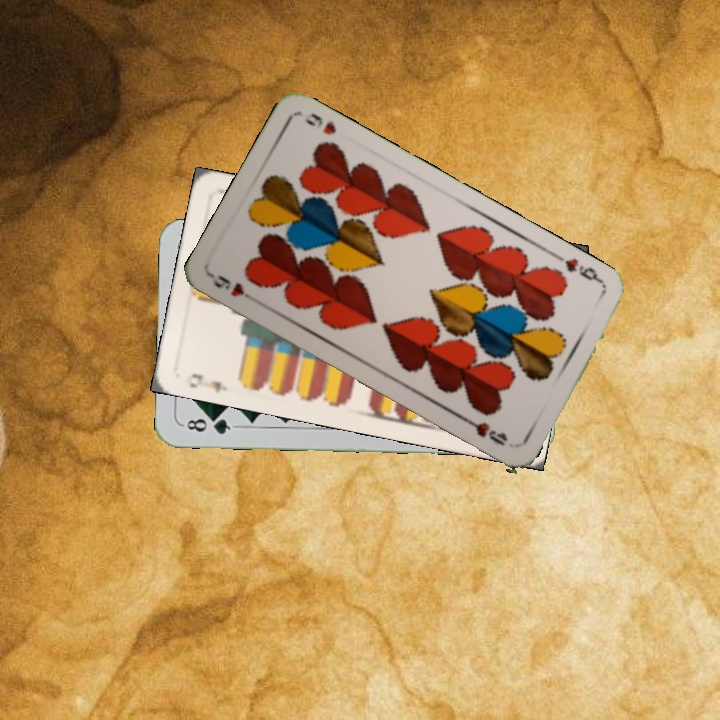E9: (185, 369, 231, 396)
G8: (179, 413, 238, 437)
H9: (207, 270, 261, 306), (552, 251, 606, 286)
